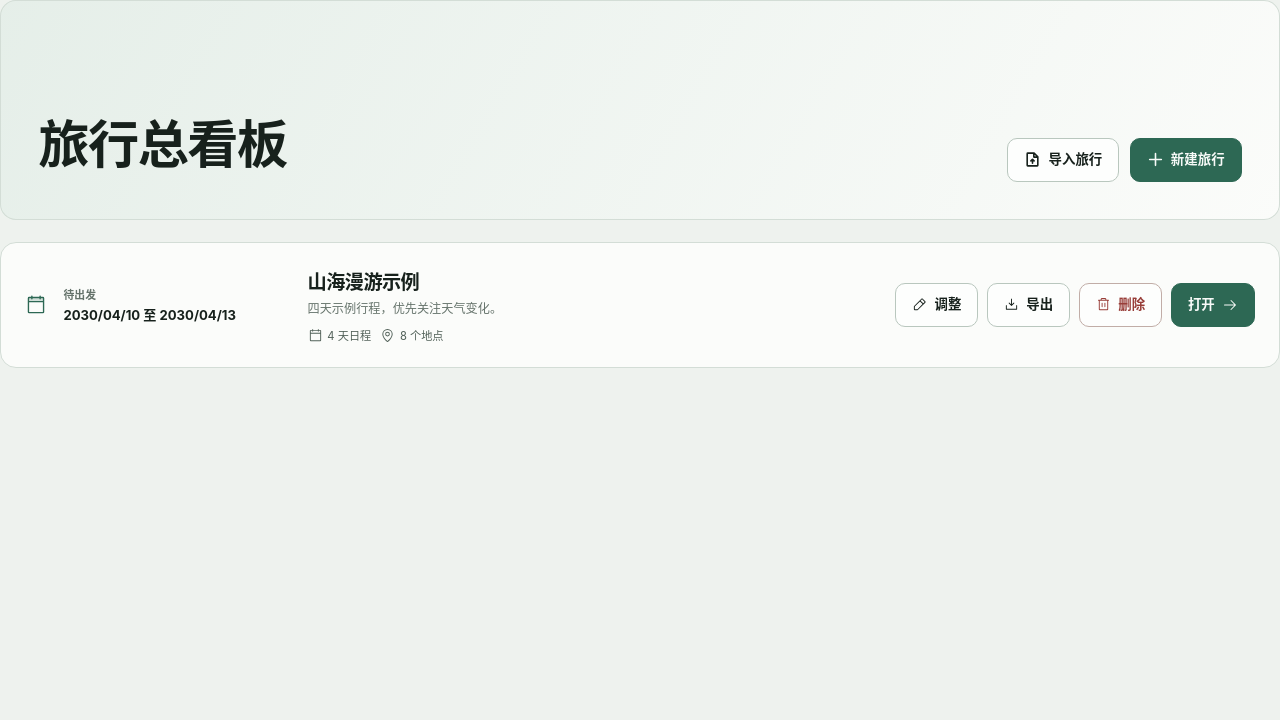
Test: 旅行说明编辑 › 提交旅行说明和当前可编辑字段，不回传只读 Trip 字段
Click the button "调整" at (937, 305), box [895,283,978,327]
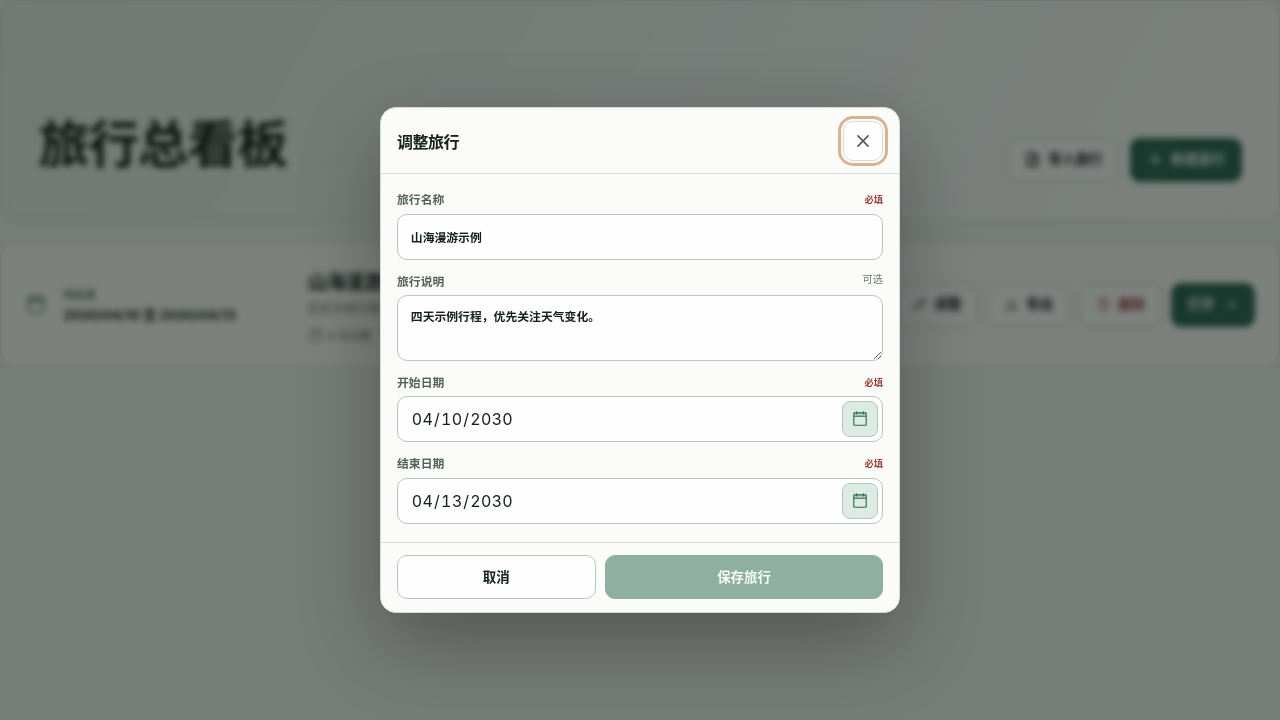
Clear the text box labelled "旅行说明 可选" at (640, 328), box [397,295,883,361]
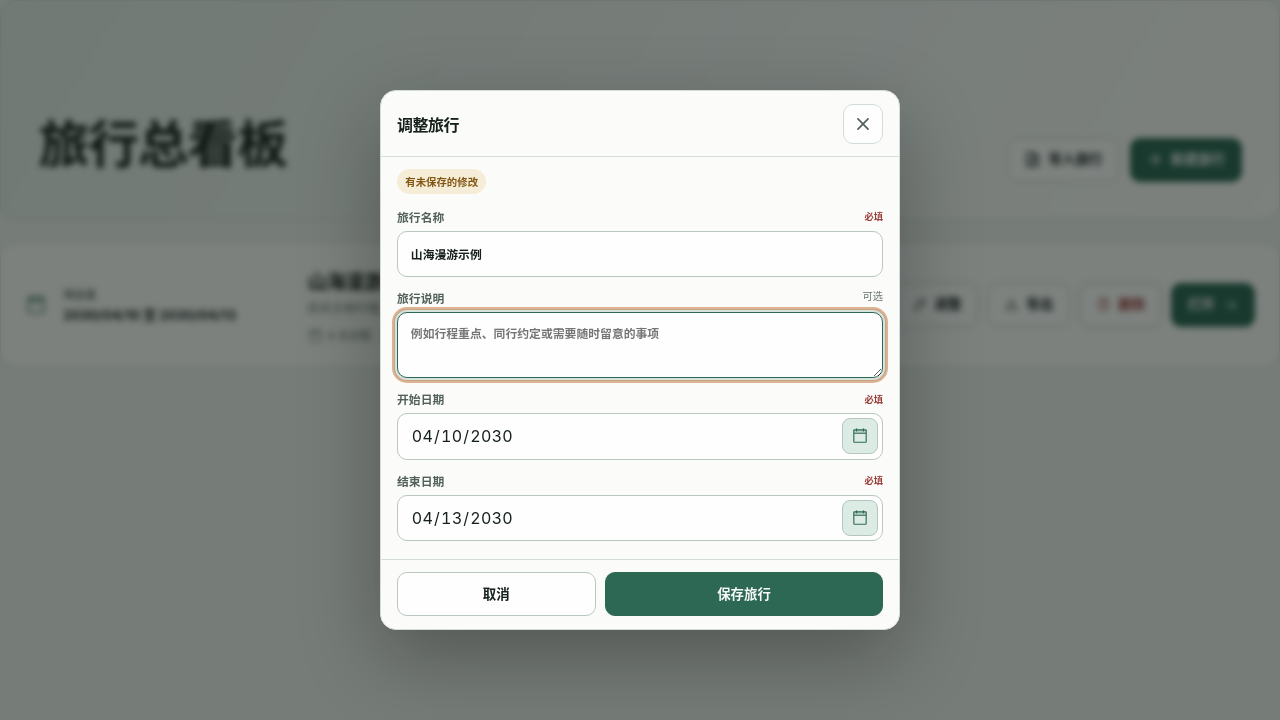
Type "把日落观景调整为天气合适时再执行" into the text box labelled "旅行说明 可选" at (640, 345), box [397,312,883,378]
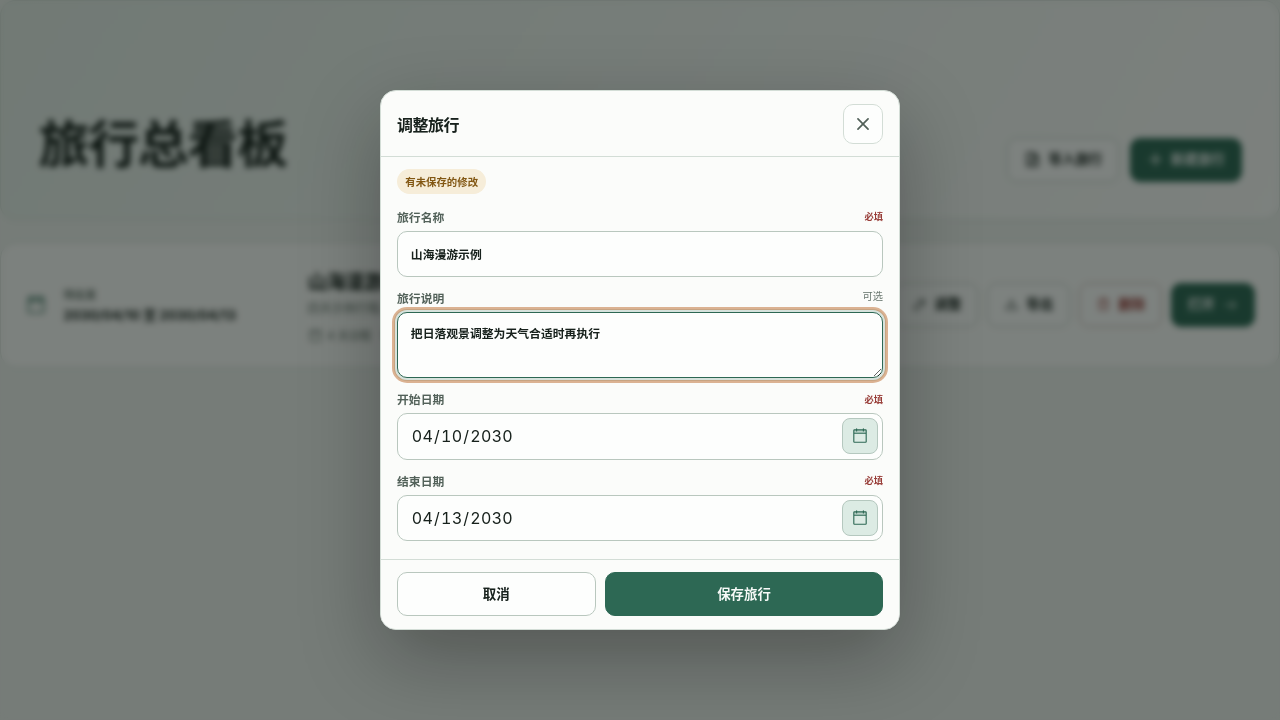
Click the button "保存旅行" at (744, 594), box [605,572,883,616]
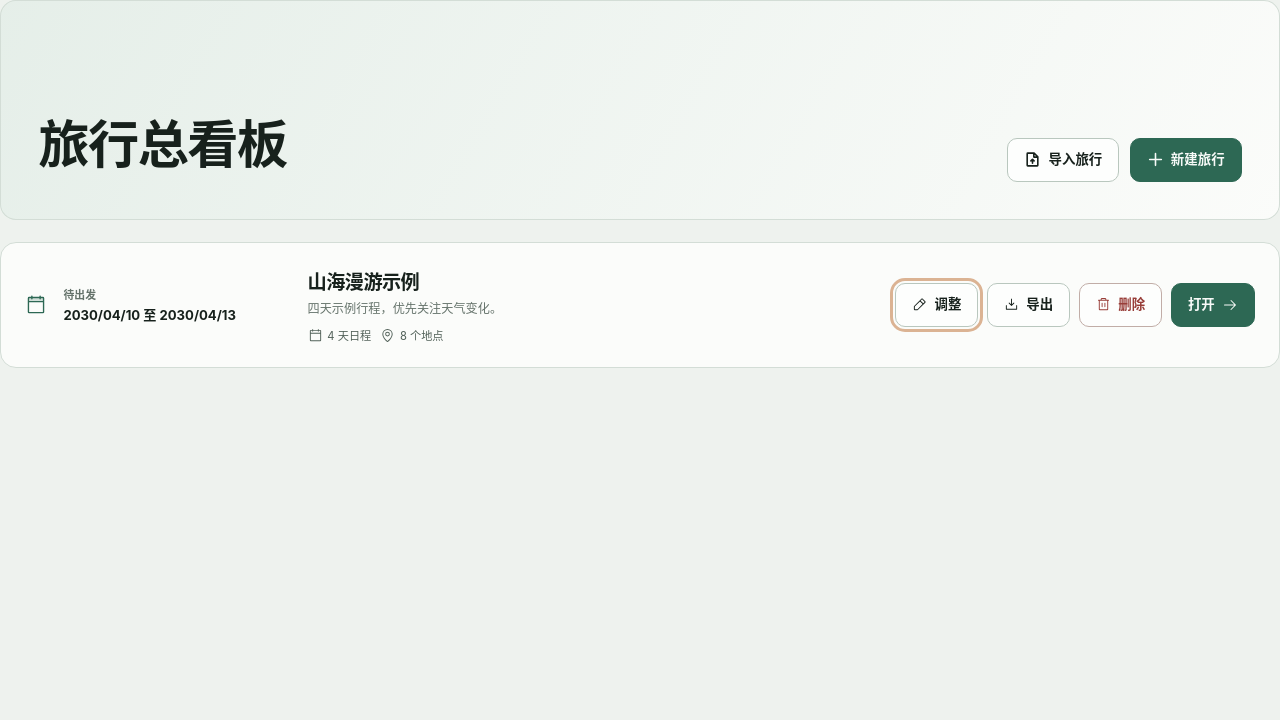
Result: the heading "调整旅行" is gone
